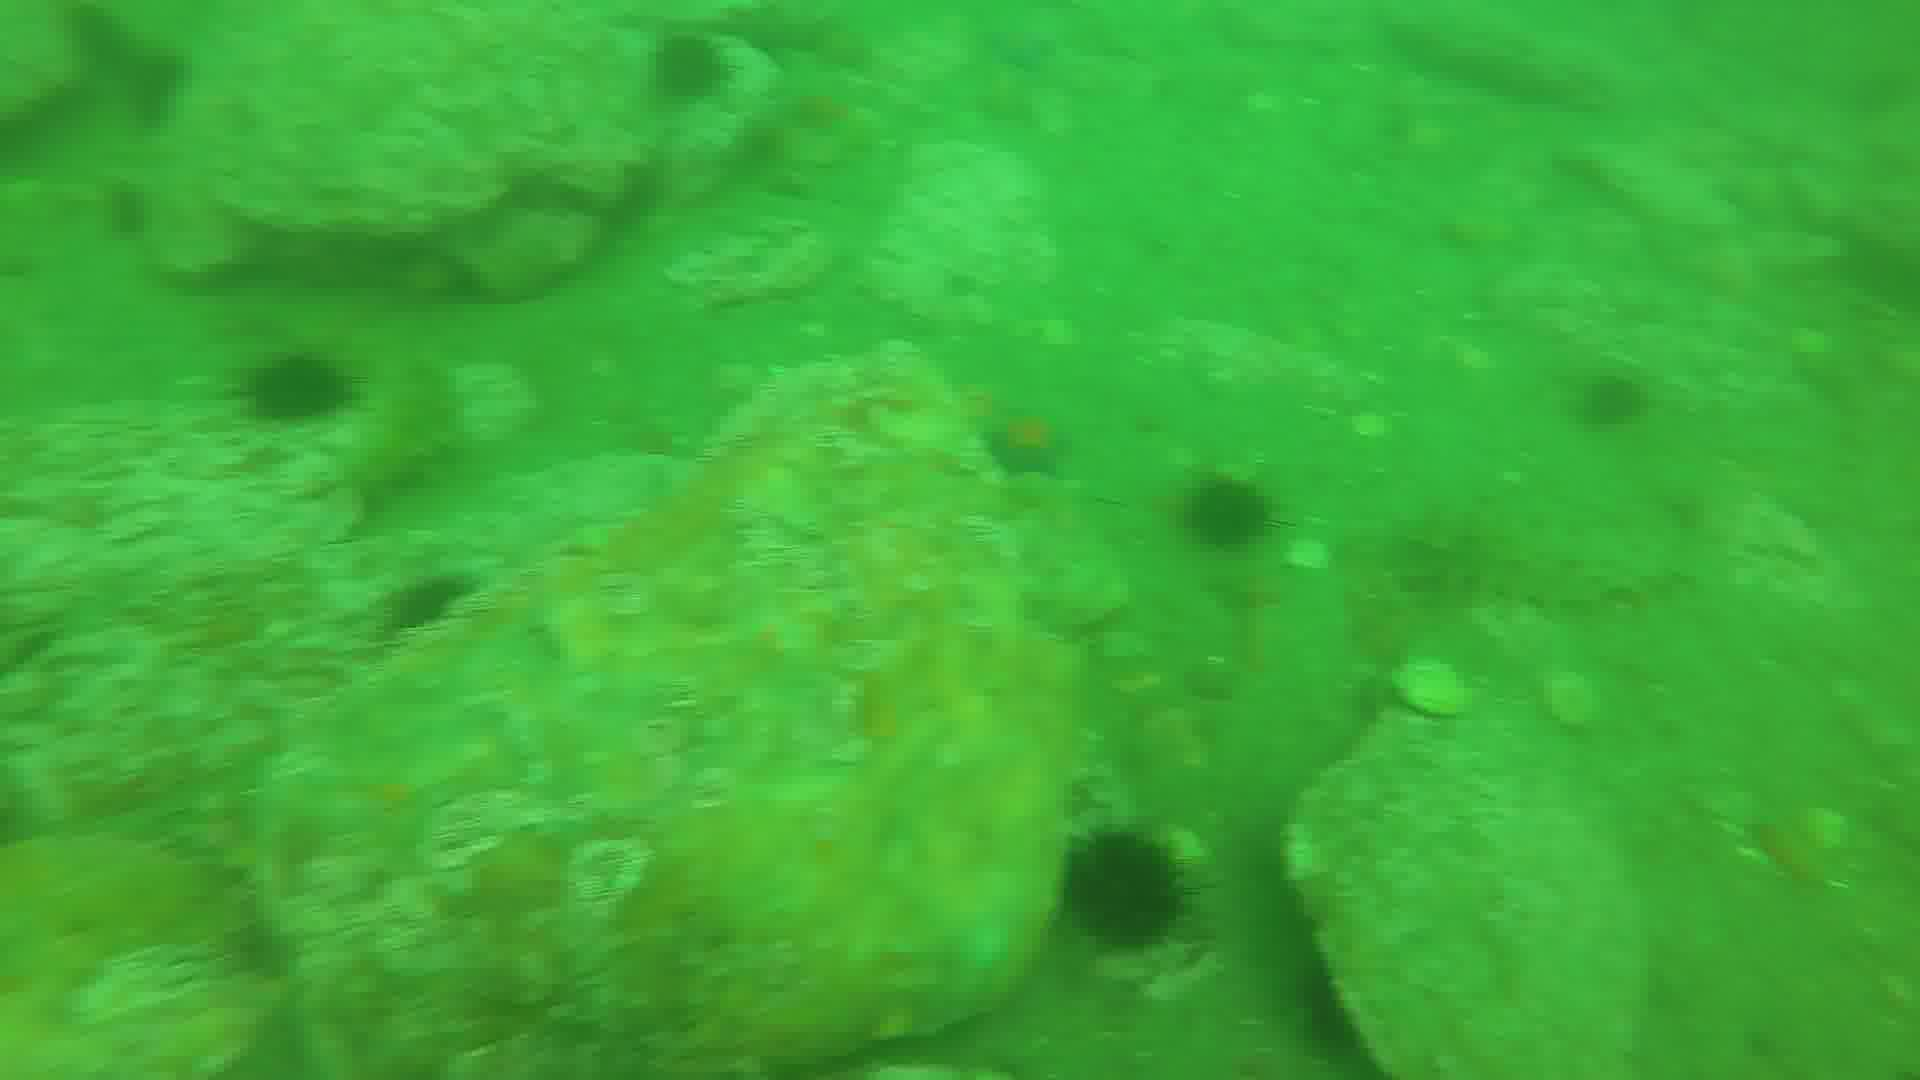echinus: (1054, 829, 1184, 948), (241, 351, 357, 435), (1189, 471, 1279, 560), (381, 578, 487, 640), (646, 32, 723, 100), (1567, 375, 1647, 417)
holothurian: (1406, 512, 1669, 596)
scallop: (1395, 650, 1484, 727), (1542, 666, 1601, 735), (1294, 527, 1335, 584)
starfish: (968, 400, 1069, 481), (982, 9, 1080, 67)
